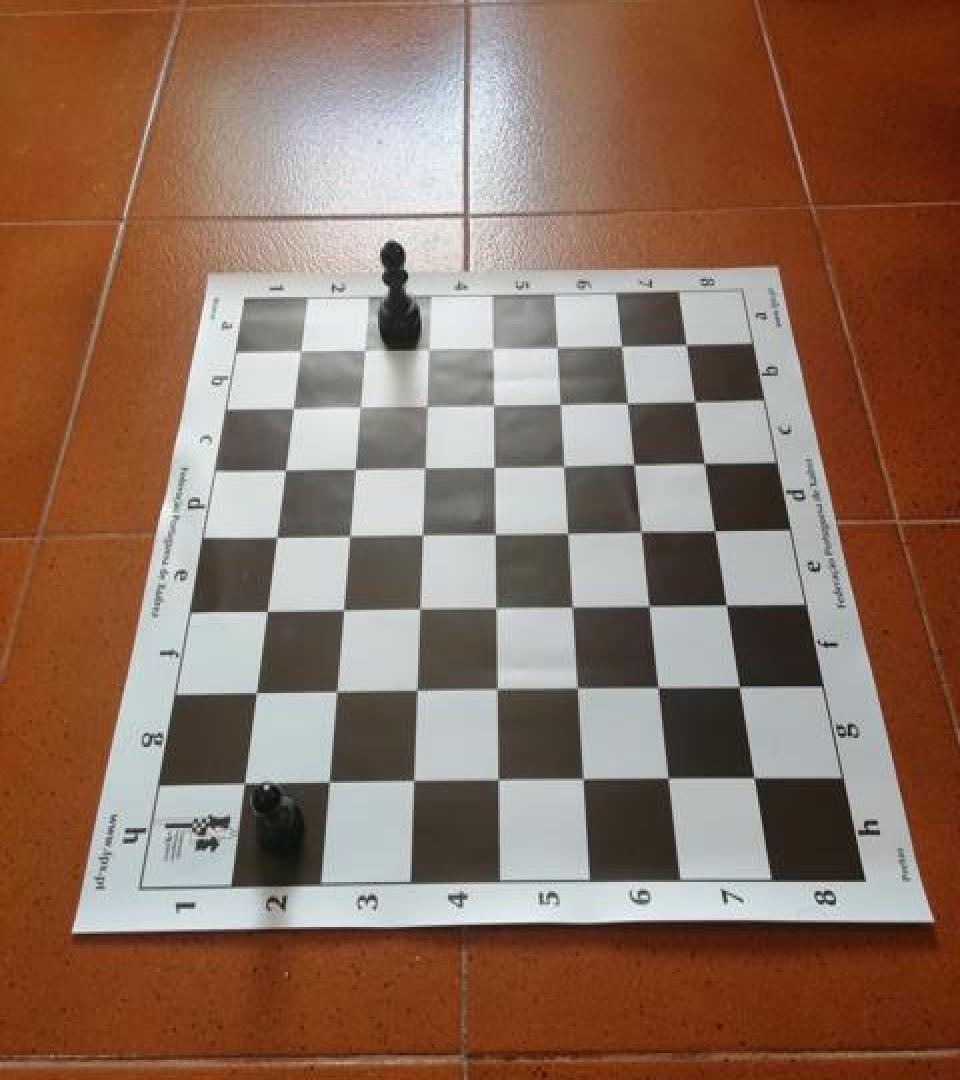xcorner: (674, 326, 704, 360), (609, 327, 639, 361), (480, 330, 510, 364), (415, 332, 445, 366), (351, 333, 381, 367), (287, 334, 317, 368), (683, 384, 713, 418), (615, 384, 645, 418), (548, 386, 578, 420), (480, 387, 510, 421), (413, 389, 443, 423), (346, 390, 376, 424), (279, 392, 309, 426), (692, 446, 722, 480), (622, 446, 652, 480), (551, 449, 581, 483), (481, 450, 511, 484), (411, 451, 441, 485), (341, 452, 371, 486), (271, 453, 301, 487), (703, 514, 733, 548), (629, 515, 659, 549), (555, 516, 585, 550), (482, 518, 512, 552), (408, 520, 438, 554), (335, 521, 365, 555), (262, 522, 292, 556), (714, 588, 744, 622), (637, 590, 667, 624), (482, 593, 512, 627), (405, 594, 435, 628), (329, 595, 359, 629), (252, 596, 282, 630), (727, 670, 757, 704), (645, 672, 675, 706), (564, 674, 594, 708), (483, 675, 513, 709), (402, 676, 432, 710), (322, 677, 352, 711), (241, 678, 271, 712), (741, 762, 771, 796), (655, 764, 685, 798), (569, 765, 599, 799), (484, 766, 514, 800), (399, 767, 429, 801), (314, 768, 344, 802), (229, 770, 259, 804), (544, 329, 574, 362), (559, 592, 589, 625)
